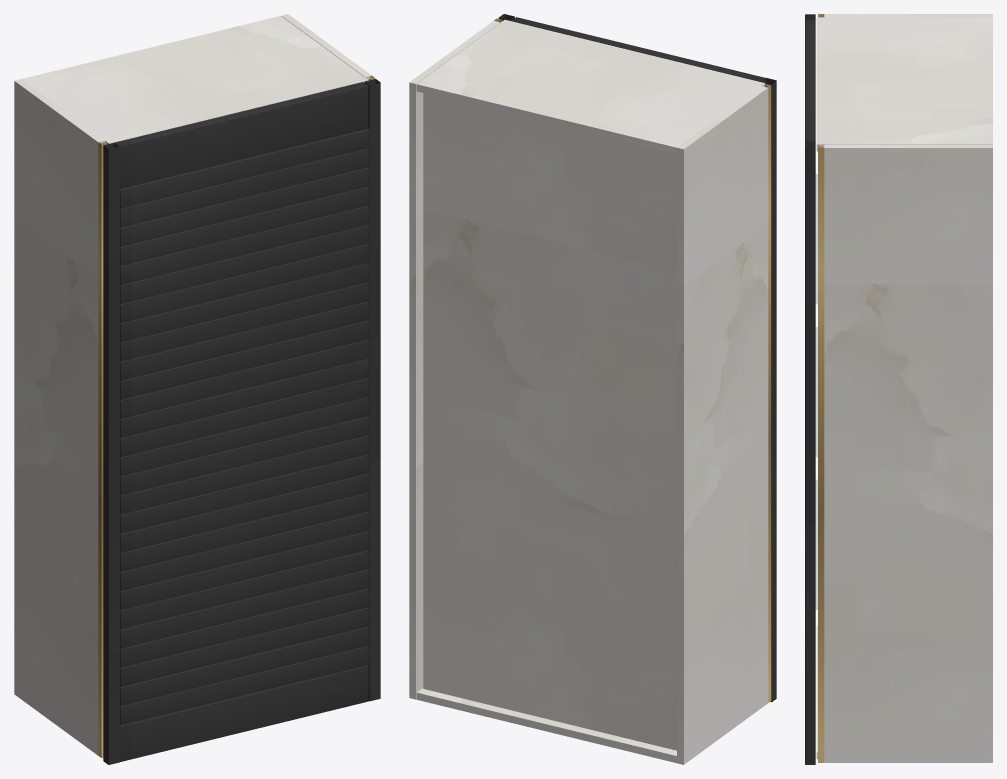
The model's file is WMHC3S1EH1RS (H1290xW600xD356).glb.
3 views of the same model, side by side, from view 1: azimuth 30°, elevation 25°; view 2: azimuth 150°, elevation 25°; view 3: azimuth 270°, elevation 25° (orthographic).
Size of what is drawn, in the model's own units: 0.6 by 1.29 by 0.3556.
Materials: 7 (3 with a texture image).
